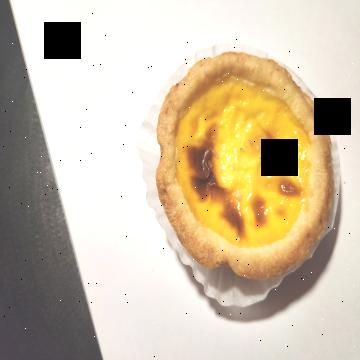EggTart: (155, 51, 333, 280)
